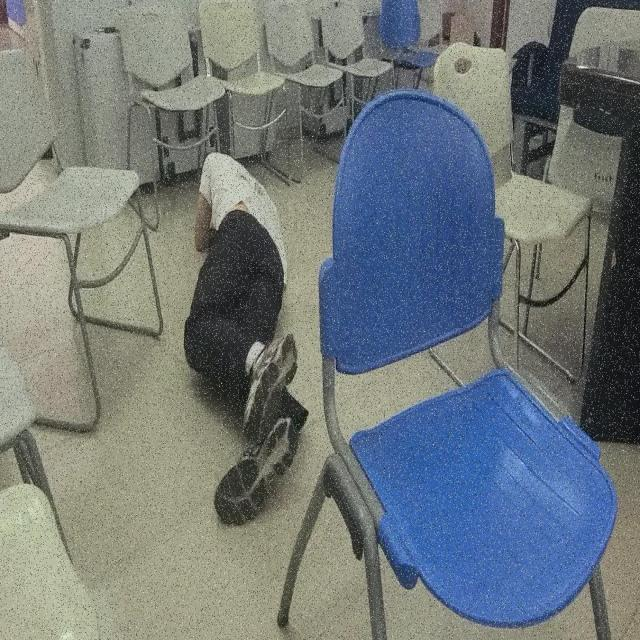fall: (184, 149, 310, 530)
